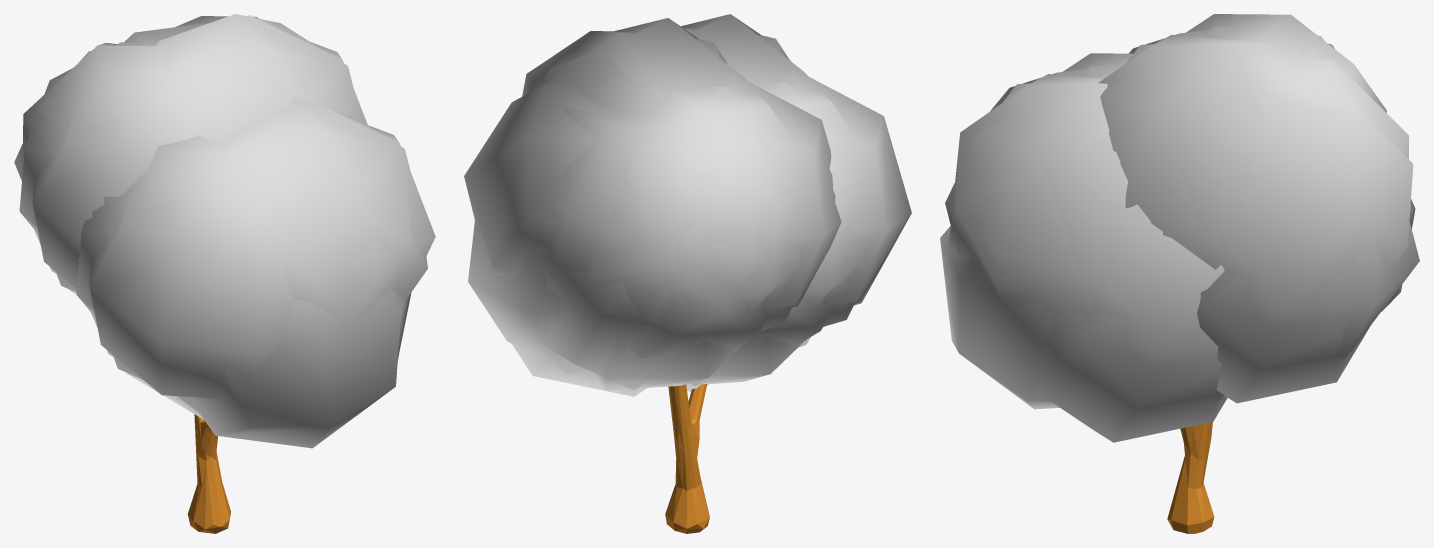
File: tree7.fbx
The picture shows the model from 3 angles, left to right: view 1: azimuth 30°, elevation 25°; view 2: azimuth 150°, elevation 25°; view 3: azimuth 270°, elevation 25°; orthographic projection. The views are drawn at different scales.
Visible parts, largest first — view 1: Cube.001, Cube.003, Cube; view 2: Cube.003, Cube.001, Cube; view 3: Cube.003, Cube.001, Cube.
Boxes of the visible parts, x1,y1,x2,y2 form: Cube.001: (76, 98, 435, 448); Cube.003: (14, 14, 367, 294); Cube: (187, 414, 230, 533); Cube.003: (464, 18, 841, 396); Cube.001: (666, 14, 911, 391); Cube: (665, 384, 709, 533); Cube.003: (1098, 14, 1419, 403); Cube.001: (940, 53, 1227, 442); Cube: (1167, 422, 1214, 533).
Size of the model in its own units: 733 by 1072 by 913.
